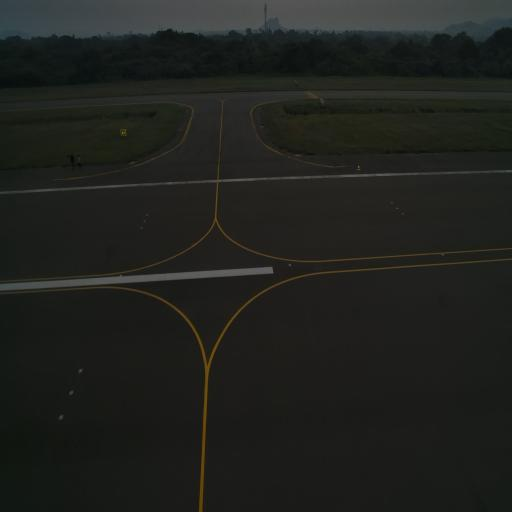off: (68, 386, 76, 400), (57, 412, 65, 424), (77, 364, 84, 376), (287, 260, 292, 270), (440, 250, 446, 258), (142, 218, 146, 224), (140, 224, 143, 230), (145, 212, 148, 218)
on: (357, 162, 362, 172)
